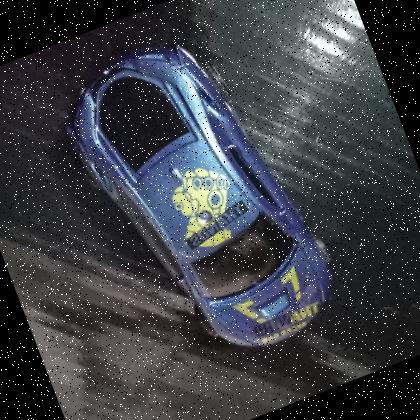Car: (38, 3, 360, 396)
